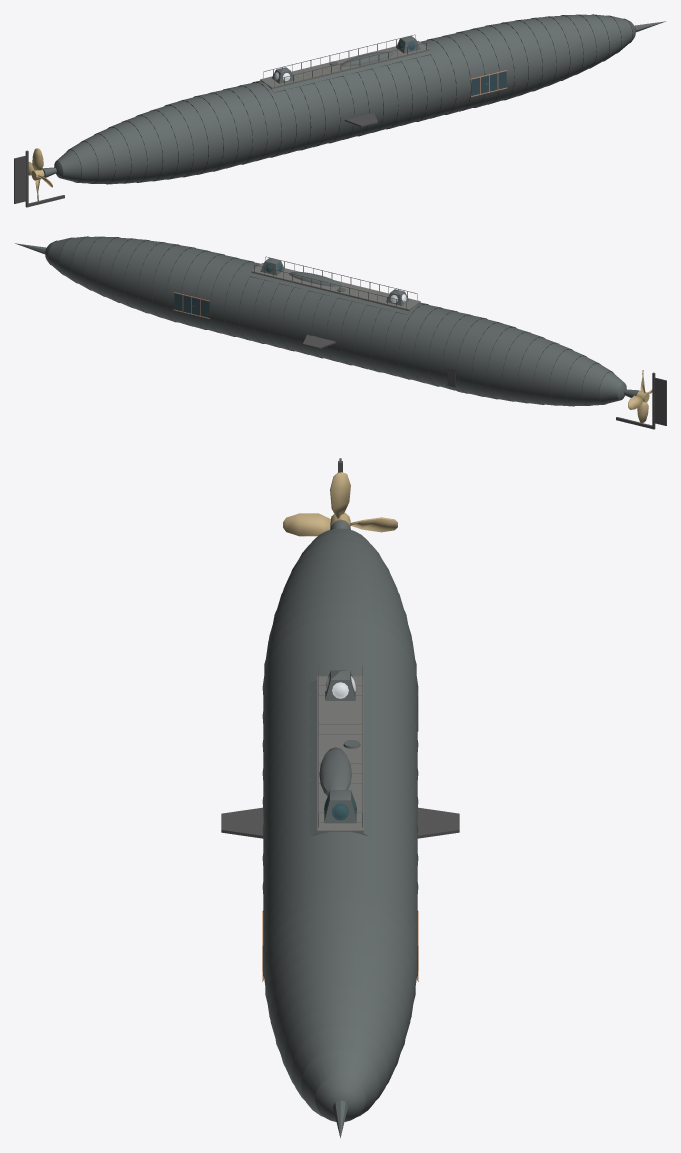
File: Nautilus_Exterior.fbx
3 views of the same model, one above another, from view 1: azimuth 30°, elevation 25°; view 2: azimuth 150°, elevation 25°; view 3: azimuth 270°, elevation 25° (orthographic). The views are drawn at different scales.
Parts seen in each view (by area): view 1: Hull, Details, Screw; view 2: Hull, Details, Screw; view 3: Hull, Details, Screw.
Part boxes in pixels (x1,y1,x2,y2): Hull: (54,14,635,184); Details: (14,21,665,207); Screw: (28,148,52,201); Hull: (45,236,626,406); Details: (15,243,666,429); Screw: (628,370,652,423); Hull: (262,528,418,1121); Details: (221,458,459,1138); Screw: (283,472,397,536).
Size of the model in its own units: 78.45 by 9.5 by 12.4.
